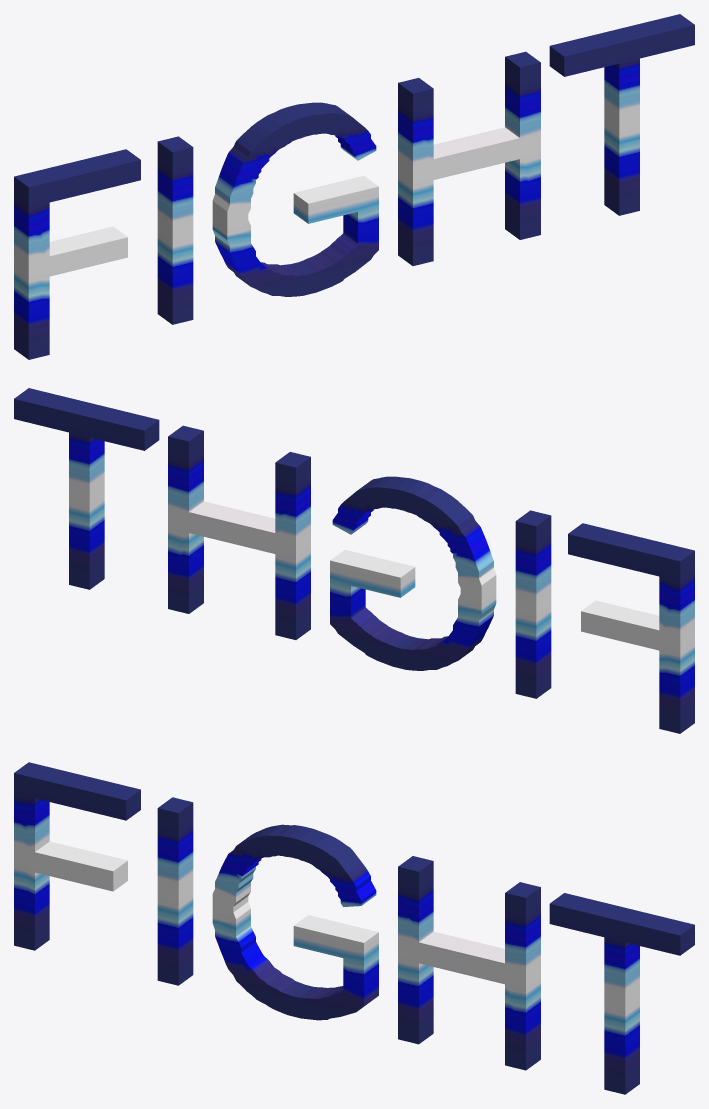
Rendered from FIGHT.glb.
The picture shows the model from 3 angles, top to bottom: view 1: azimuth 30°, elevation 25°; view 2: azimuth 150°, elevation 25°; view 3: azimuth 330°, elevation 25°; orthographic projection.
Parts seen in each view (by area): view 1: FIGHT; view 2: FIGHT; view 3: FIGHT.
Part boxes in pixels (x1,y1,x2,y2): FIGHT: (14,14,694,359); FIGHT: (14,388,694,733); FIGHT: (14,762,694,1094).
Size of the model in its own units: 37.49 by 9.58 by 1.45.
1 material, 1 textured.
